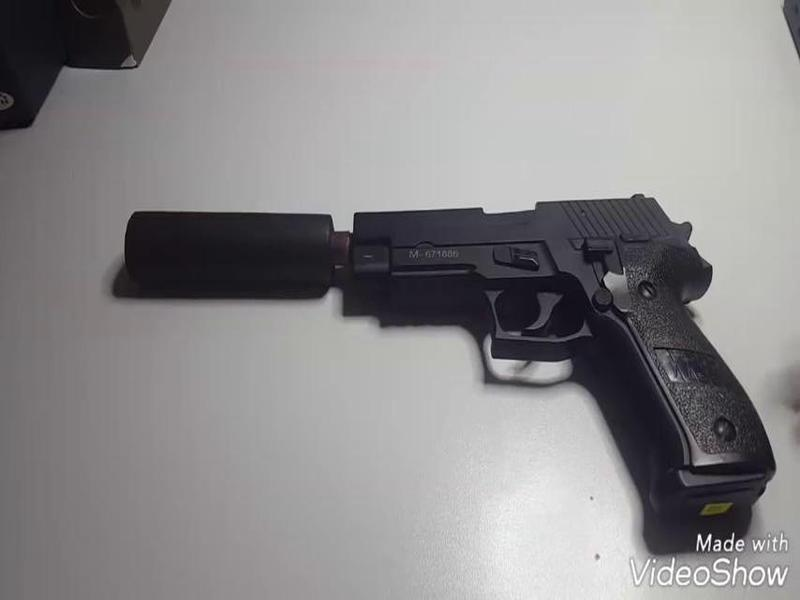Pistola: (333, 178, 782, 534)
